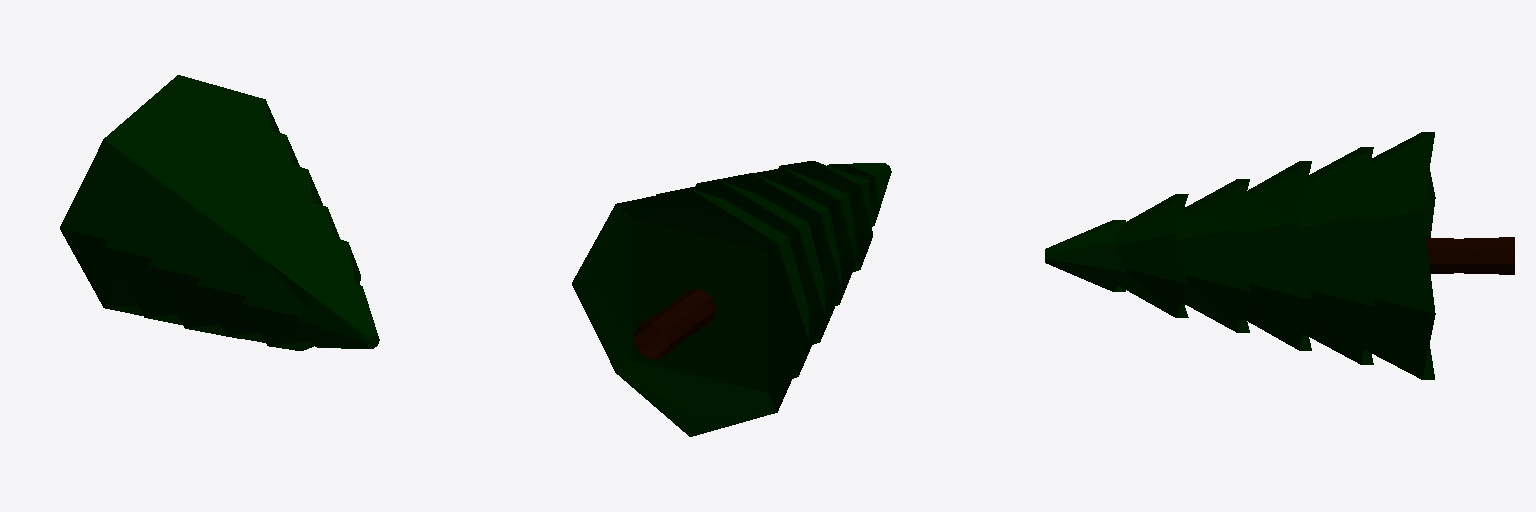
The model's file is firTree1.obj.
3 views of the same model, side by side, from view 1: azimuth 30°, elevation 25°; view 2: azimuth 150°, elevation 25°; view 3: azimuth 270°, elevation 25° (orthographic).
Visible parts, largest first — view 1: Leaves; view 2: Leaves; view 3: Leaves.
Part boxes in pixels (bbox=[...]): Leaves: bbox=[60, 75, 379, 350]; Leaves: bbox=[572, 161, 891, 436]; Leaves: bbox=[1045, 132, 1514, 379].
Bounding box in the file's own units: 3.71 × 3.71 × 6.34.